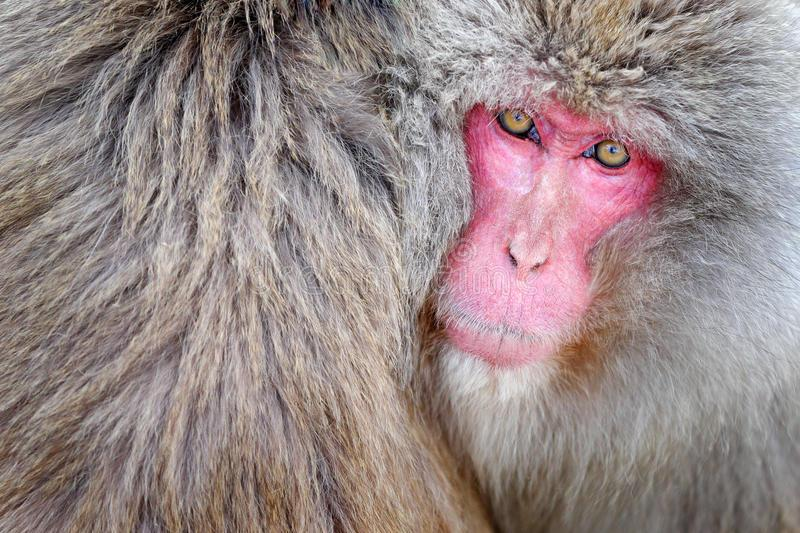monkey: (7, 0, 800, 533)
